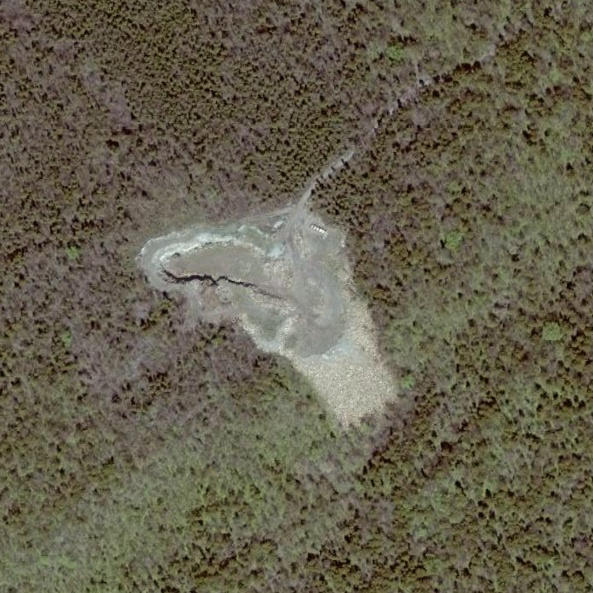slope: (130, 203, 405, 433)
